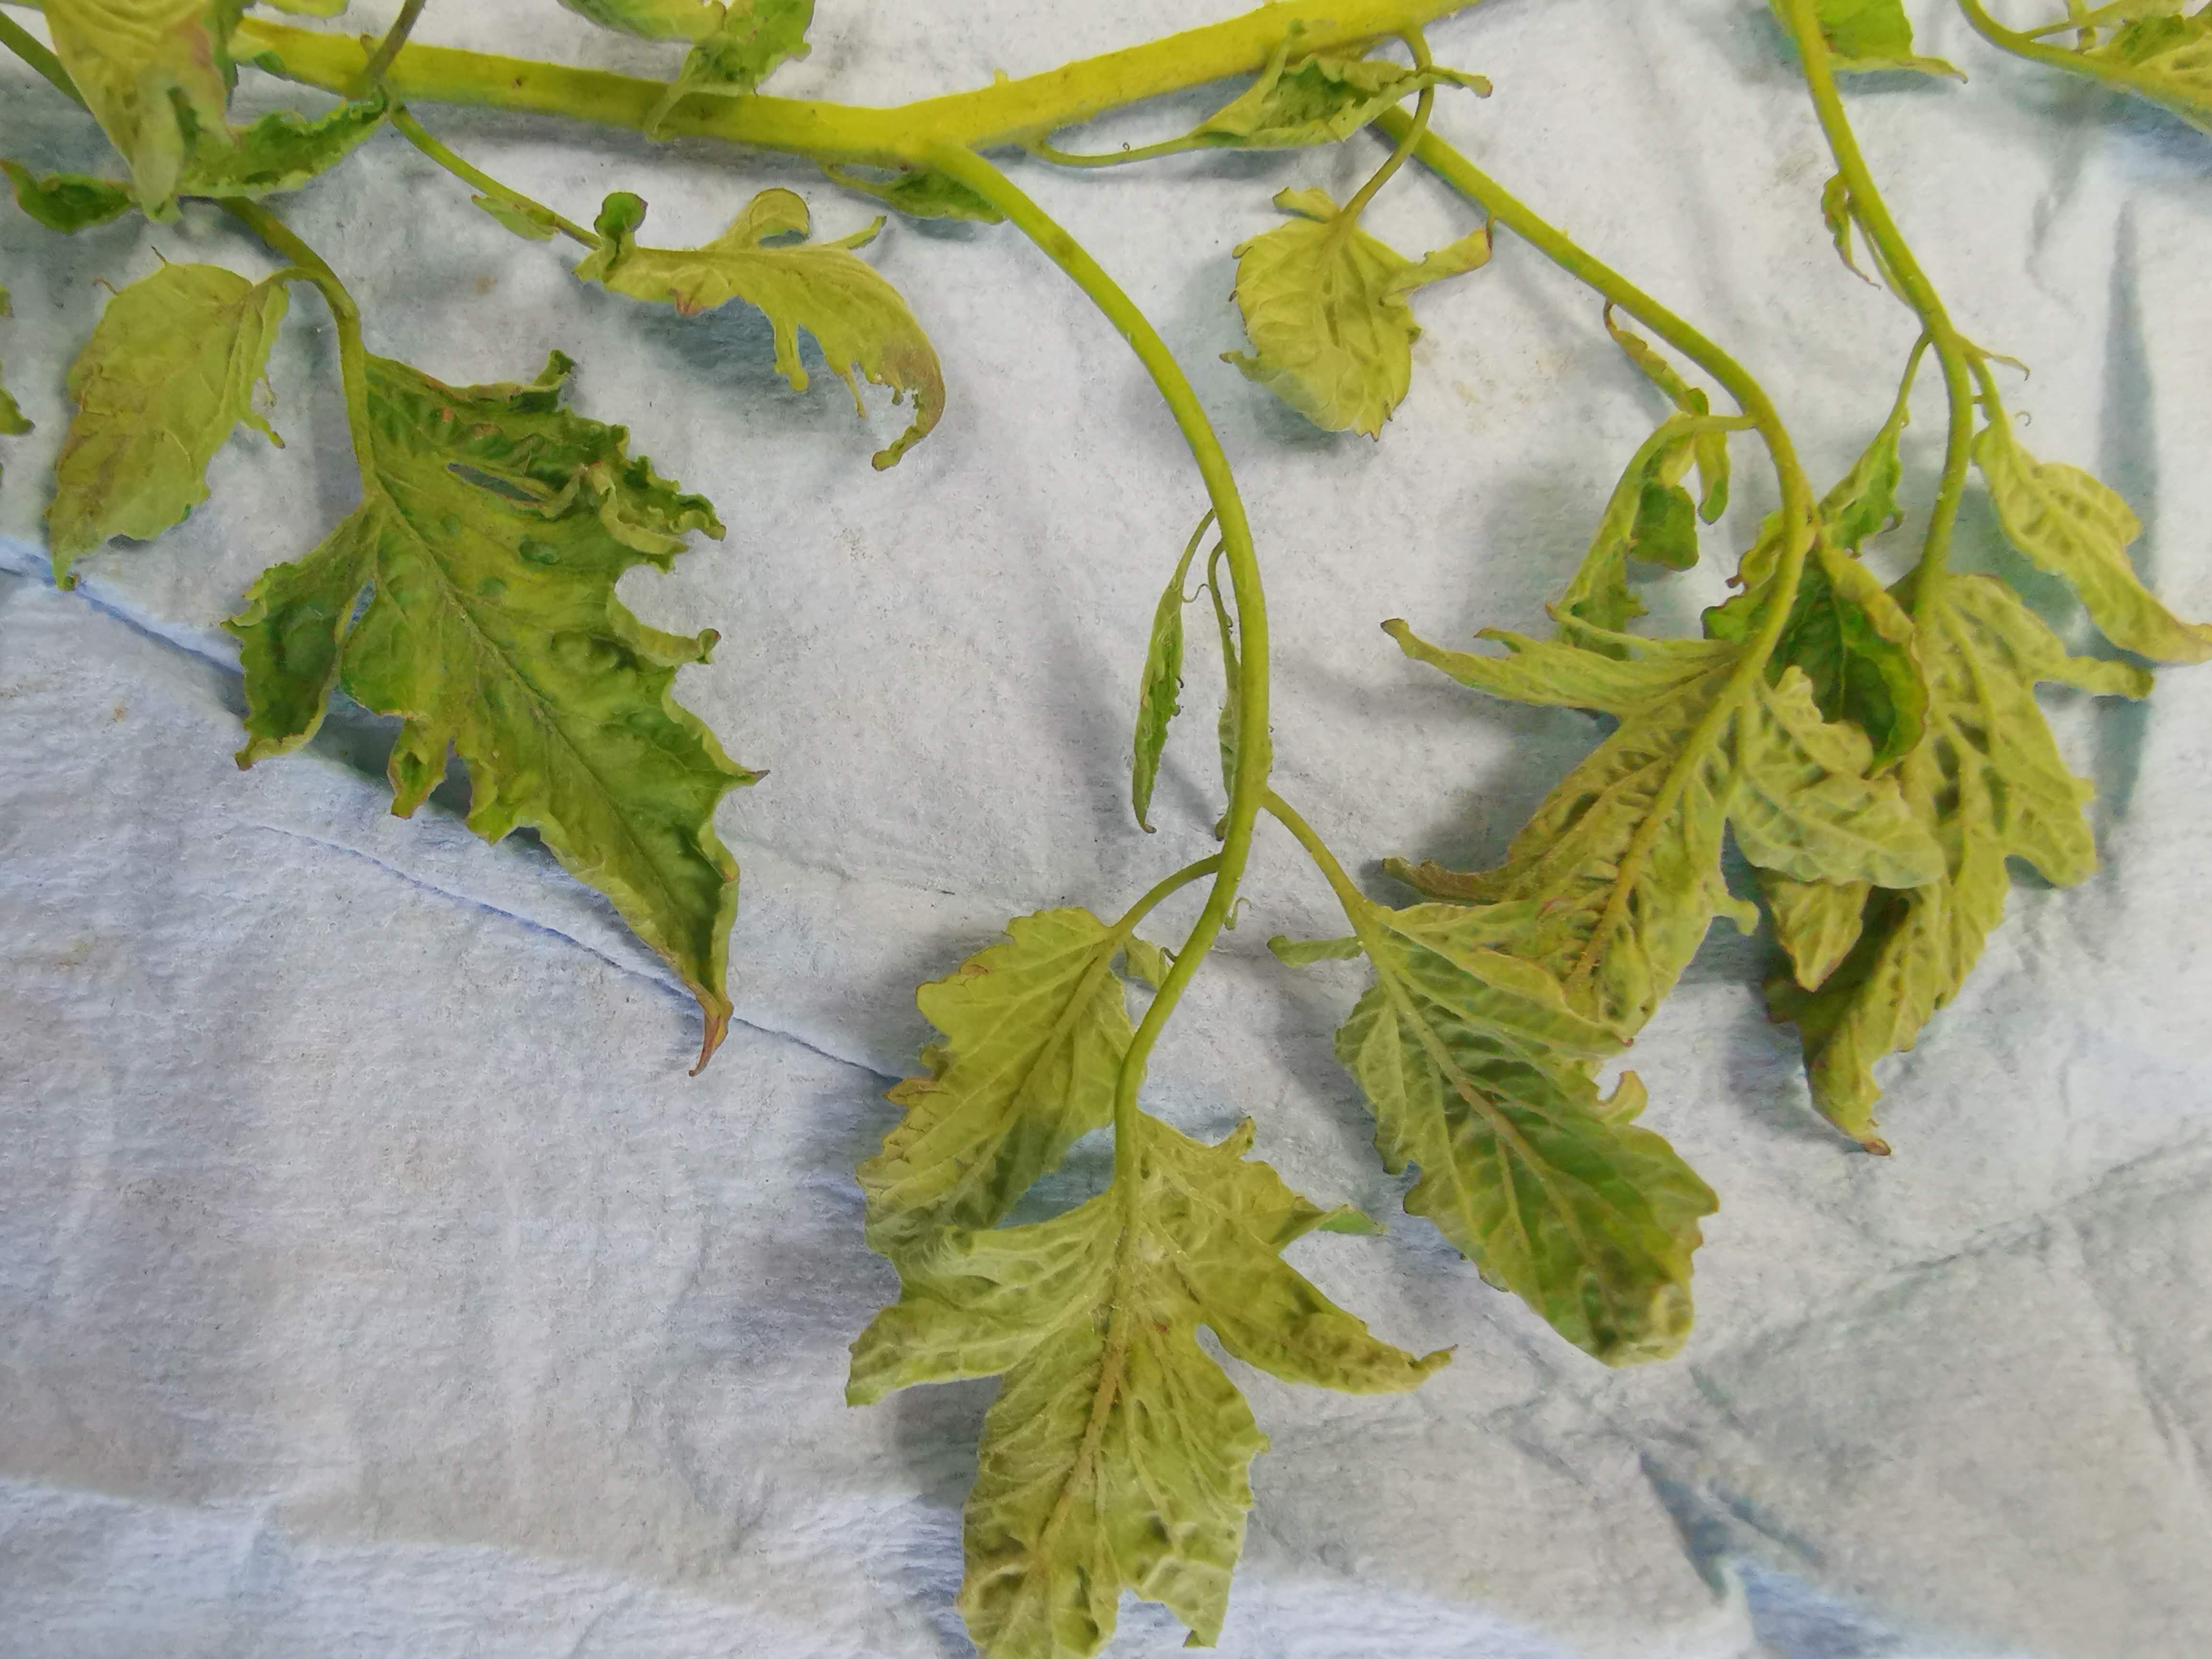Hoja rugoso: (51, 202, 748, 1037), (847, 1110, 1447, 1654), (1768, 570, 2148, 1140), (1335, 880, 1715, 1361), (1388, 622, 1759, 1037), (859, 859, 1218, 1262), (575, 190, 941, 418), (44, 0, 385, 216), (1975, 385, 2212, 660), (1727, 666, 1944, 890), (1222, 190, 1417, 436)
Pedunculo rugoso: (933, 146, 1271, 829), (382, 3, 1457, 171), (1417, 134, 1815, 552), (1785, 0, 1958, 350), (1114, 856, 1245, 1122), (1917, 345, 1975, 575)
